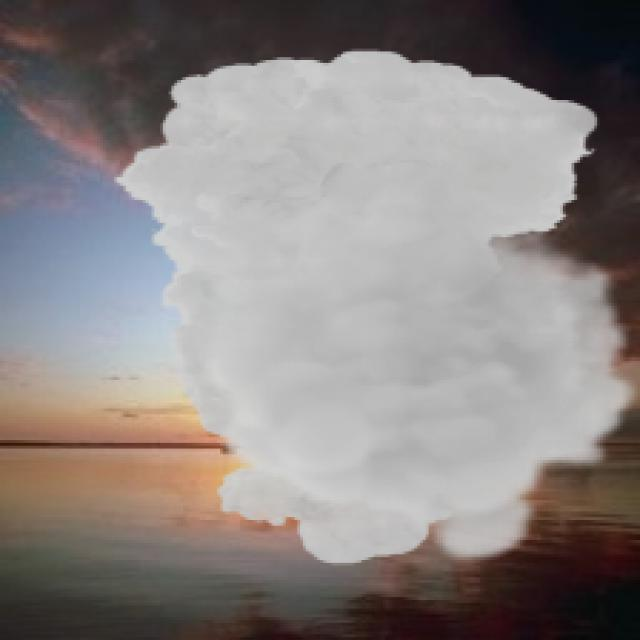Smoke: (112, 49, 638, 568)
